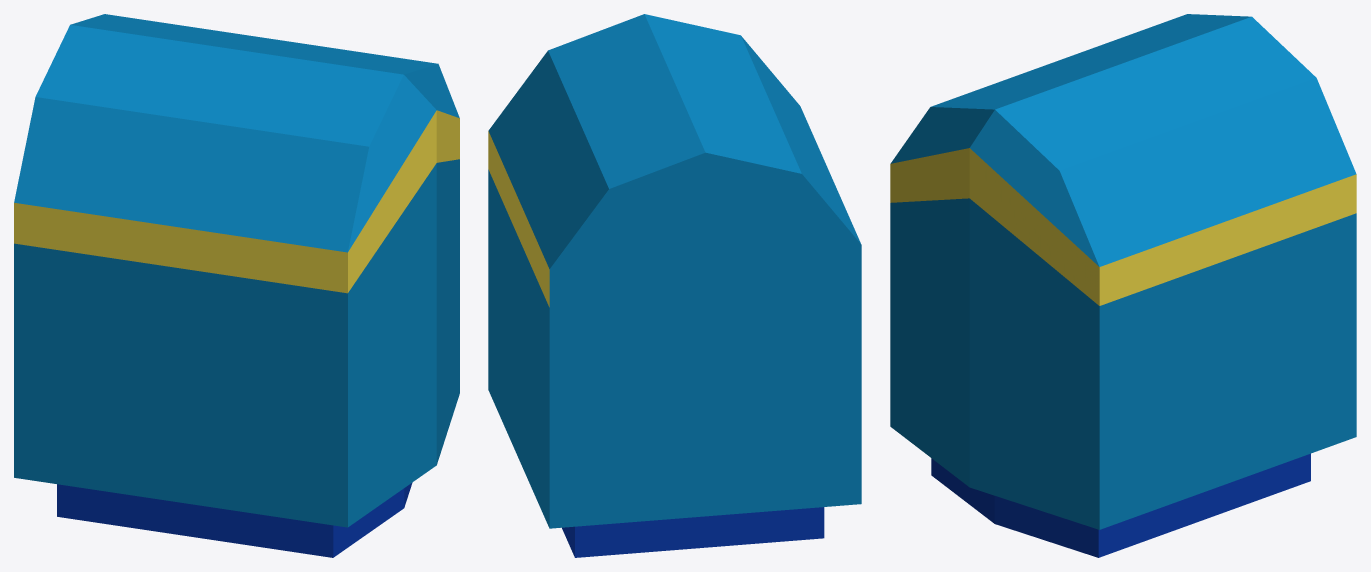
Rendered from Motor.fbx.
3 views of the same model, side by side, from view 1: azimuth 30°, elevation 25°; view 2: azimuth 150°, elevation 25°; view 3: azimuth 270°, elevation 25° (orthographic). The views are drawn at different scales.
Visible parts, largest first — view 1: Cylinder.001; view 2: Cylinder.001; view 3: Cylinder.001.
Boxes of the visible parts, bbox=[...] form: Cylinder.001: bbox=[14, 14, 459, 557]; Cylinder.001: bbox=[488, 14, 861, 557]; Cylinder.001: bbox=[890, 14, 1356, 557].
Bounding box in the file's own units: 275 × 270 × 276.
